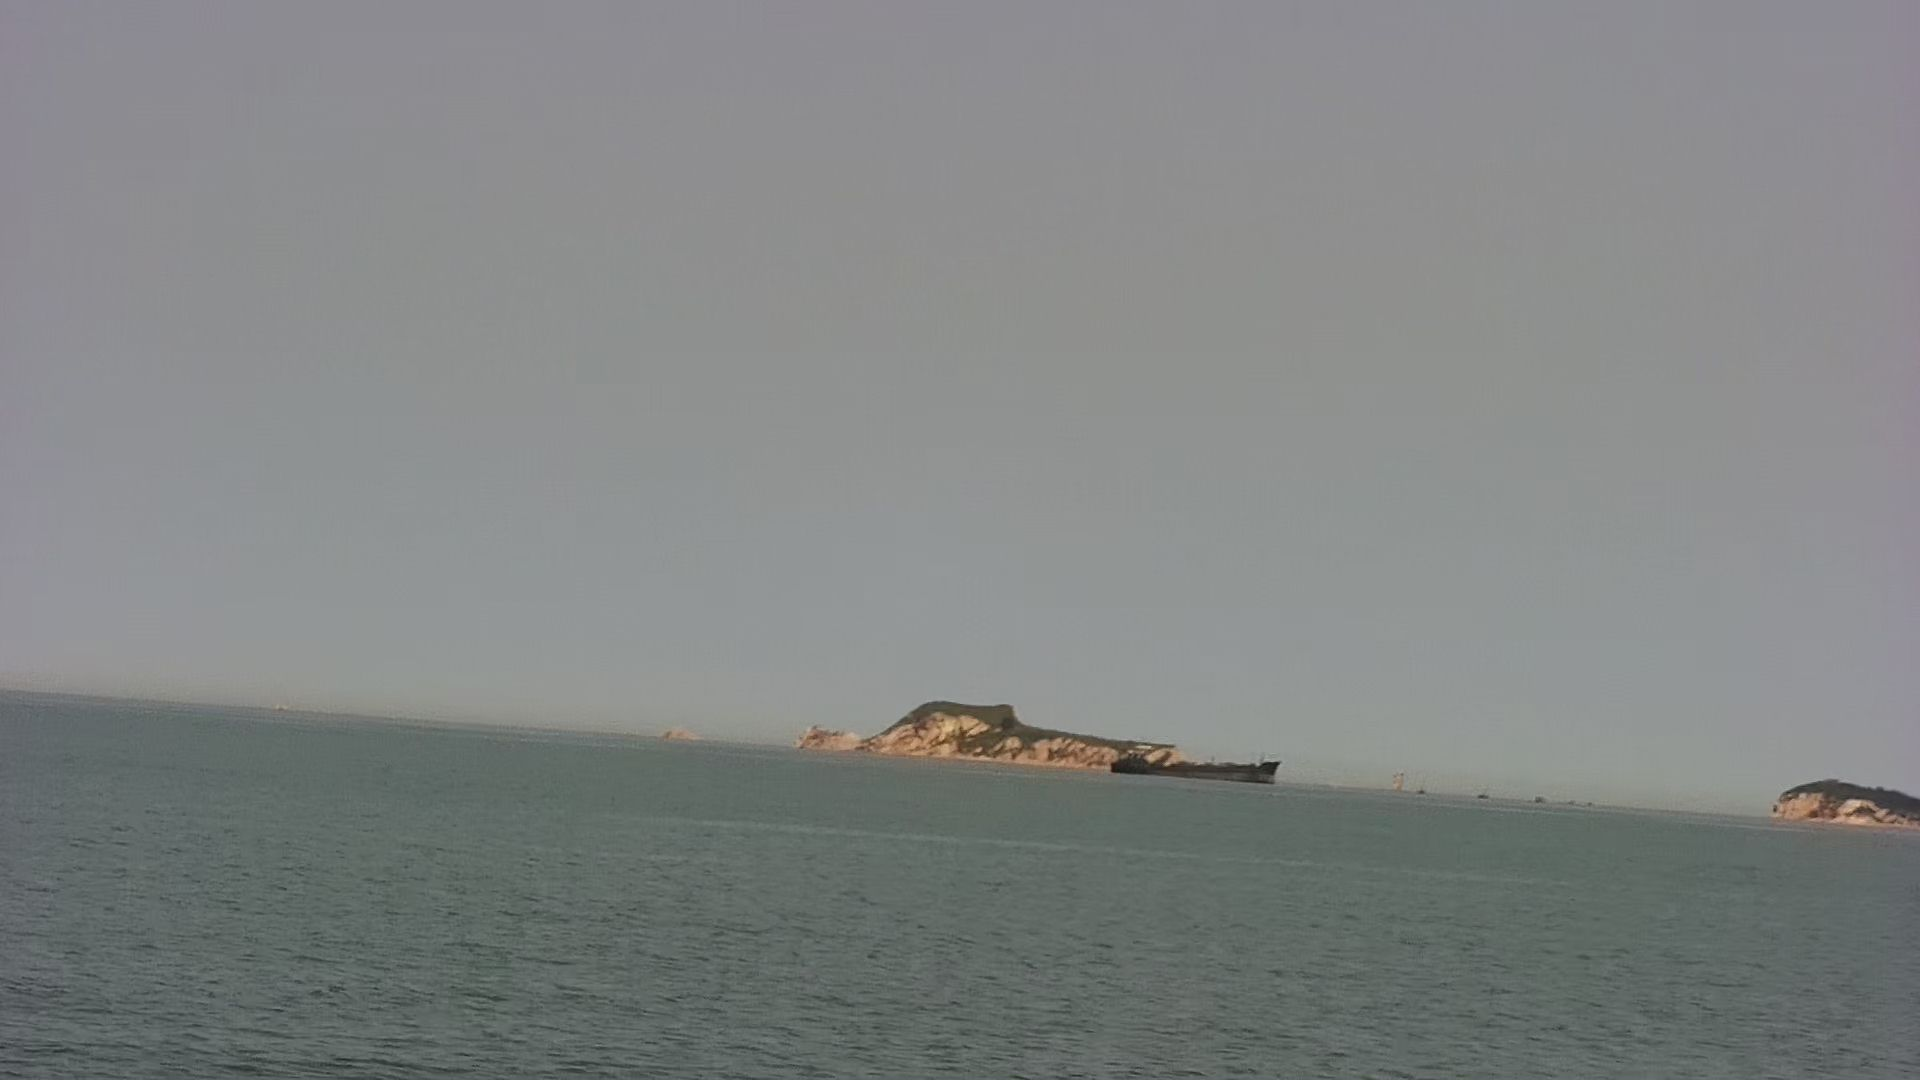rock: (795, 700, 1203, 775), (1768, 778, 1920, 828)
ship: (1106, 748, 1286, 786)
